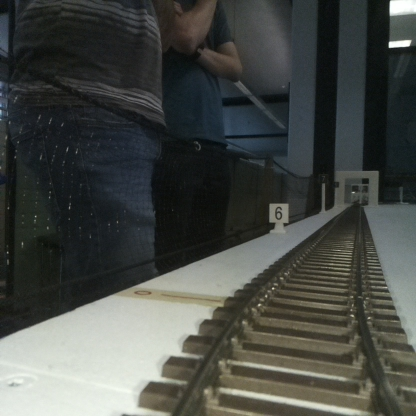black-info-7: (319, 172, 327, 213)
white-stop-6: (269, 203, 288, 232)
